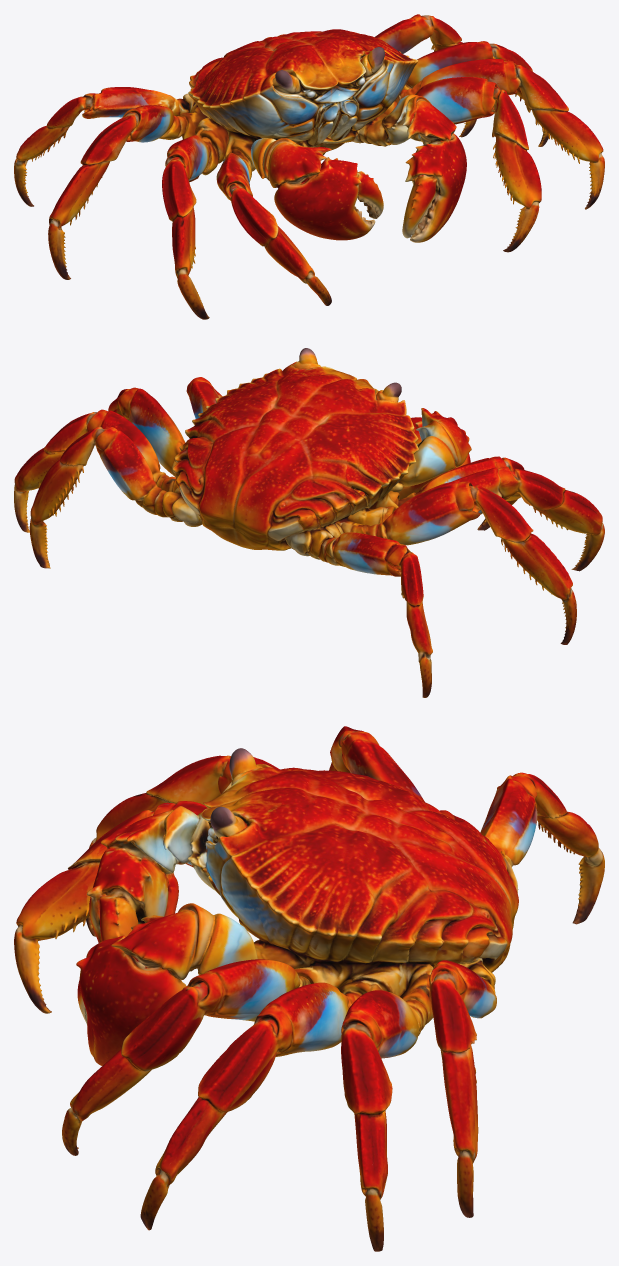
The model's file is crab.glb.
3 views of the same model, one above another, from view 1: azimuth 30°, elevation 25°; view 2: azimuth 150°, elevation 25°; view 3: azimuth 270°, elevation 25° (orthographic). The views are drawn at different scales.
Parts seen in each view (by area): view 1: crab; view 2: crab; view 3: crab.
Part boxes in pixels (x1,y1,x2,y2): crab: [14, 14, 604, 319]; crab: [14, 348, 604, 697]; crab: [14, 726, 604, 1251].
Bounding box in the file's own units: 0.2 × 0.0694 × 0.1301.
1 material, 1 textured.
